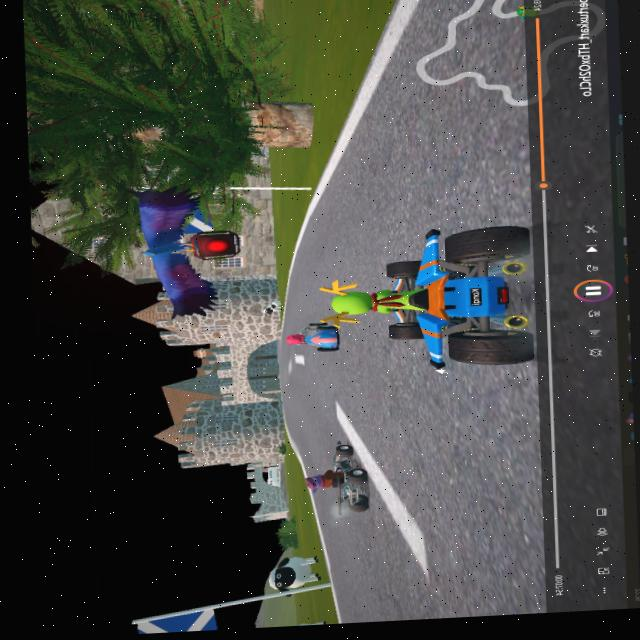enemy_kart: (297, 438, 389, 518), (284, 315, 350, 356)
player_kart: (332, 216, 542, 391)
track: (389, 431, 546, 621), (392, 31, 529, 226), (346, 380, 548, 440), (319, 516, 397, 624), (329, 164, 394, 229), (292, 356, 337, 440), (343, 126, 397, 168), (290, 271, 326, 318), (297, 231, 329, 272), (270, 344, 291, 397), (279, 396, 299, 433)
